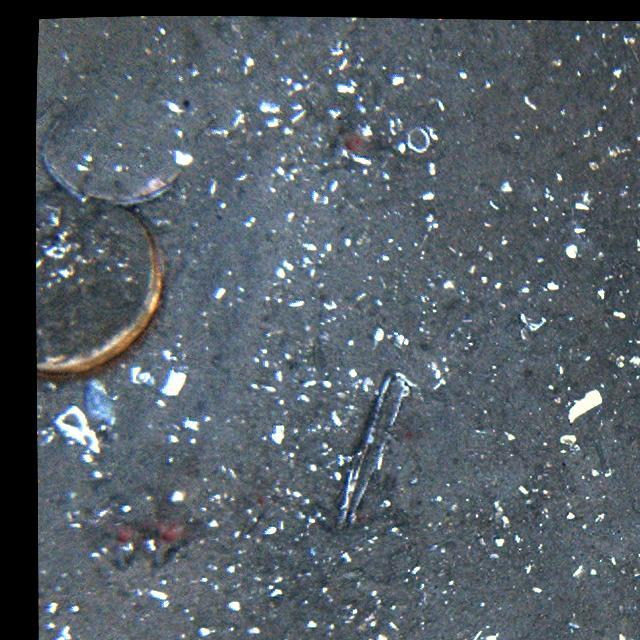scallop: (37, 194, 166, 379), (48, 92, 187, 199)
